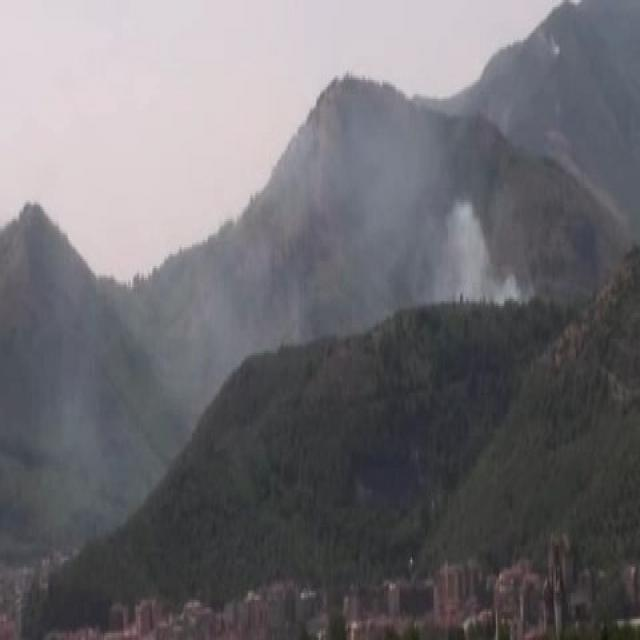smoke: (332, 107, 526, 303)
